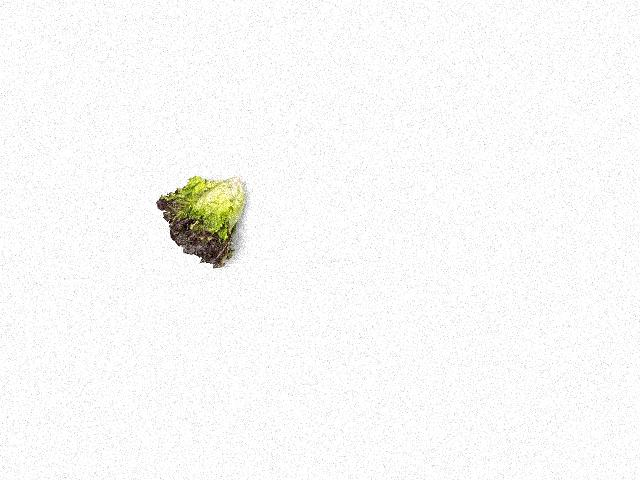lettuce: (158, 172, 245, 274)
